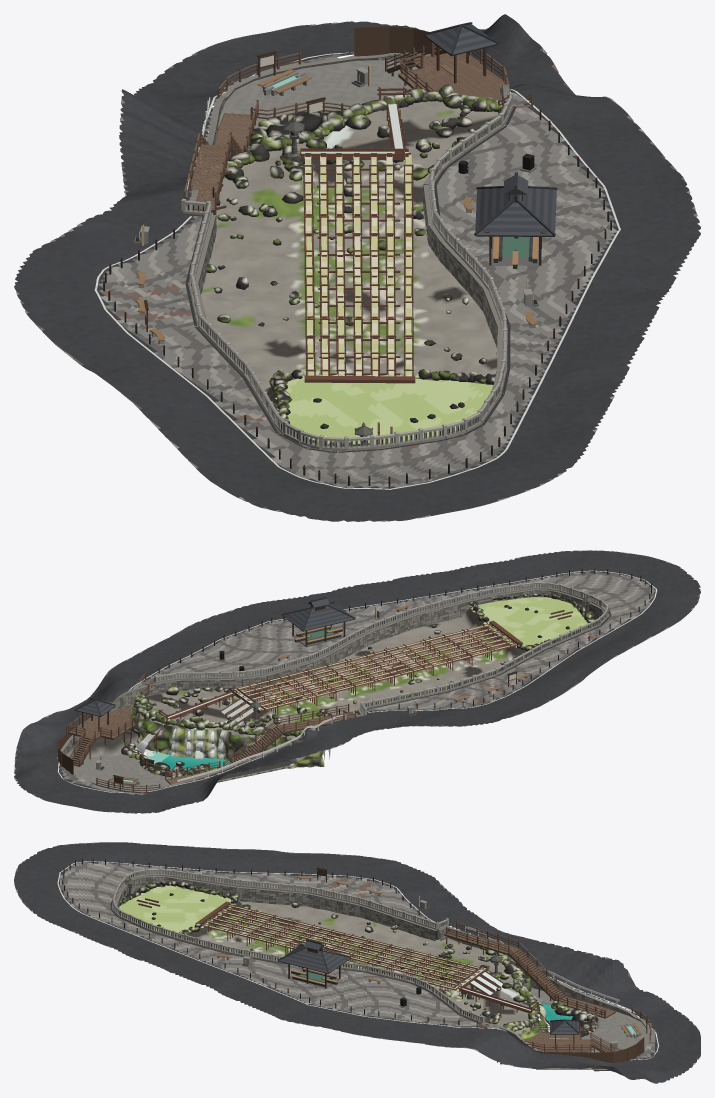
The model's file is yubatake.glb.
3 views of the same model, one above another, from view 1: azimuth 30°, elevation 25°; view 2: azimuth 150°, elevation 25°; view 3: azimuth 270°, elevation 25° (orthographic). The views are drawn at different scales.
Visible parts, largest first — view 1: Yb_Pave, Yb_Bed, Yb_Wood, Yb_Stone, Yb_Rocks, Water_Yb, Yb_Flow, Yb_Roof, Yb_Dark; view 2: Yb_Pave, Yb_Wood, Yb_Bed, Yb_Stone, Yb_Rocks, Water_Yb, Yb_Flow, Yb_Cliff, Yb_Roof, Yb_Dark; view 3: Yb_Pave, Yb_Wood, Yb_Stone, Yb_Bed, Yb_Rocks, Water_Yb, Yb_Flow, Yb_Roof, Yb_Dark, Yb_Cliff.
Boxes of the visible parts, left/top/right/bottom form: Yb_Pave: left=14, top=14, right=700, bottom=521; Yb_Bed: left=197, top=55, right=498, bottom=419; Yb_Wood: left=135, top=26, right=546, bottom=444; Yb_Stone: left=134, top=52, right=541, bottom=450; Yb_Rocks: left=191, top=84, right=502, bottom=446; Water_Yb: left=267, top=75, right=529, bottom=444; Yb_Flow: left=139, top=75, right=533, bottom=376; Yb_Roof: left=424, top=22, right=557, bottom=236; Yb_Dark: left=103, top=73, right=611, bottom=486; Yb_Pave: left=14, top=550, right=700, bottom=813; Yb_Wood: left=57, top=604, right=591, bottom=792; Yb_Bed: left=57, top=597, right=584, bottom=794; Yb_Stone: left=60, top=581, right=608, bottom=793; Yb_Rocks: left=121, top=593, right=595, bottom=777; Water_Yb: left=123, top=597, right=587, bottom=781; Yb_Flow: left=101, top=624, right=513, bottom=767; Yb_Cliff: left=129, top=701, right=324, bottom=768; Yb_Roof: left=75, top=597, right=355, bottom=716; Yb_Dark: left=100, top=568, right=651, bottom=768; Yb_Pave: left=14, top=842, right=700, bottom=1083; Yb_Wood: left=124, top=867, right=651, bottom=1062; Yb_Stone: left=112, top=868, right=649, bottom=1071; Yb_Bed: left=121, top=886, right=655, bottom=1069; Yb_Rocks: left=118, top=881, right=598, bottom=1038; Water_Yb: left=119, top=885, right=636, bottom=1038; Yb_Flow: left=204, top=905, right=559, bottom=1038; Yb_Roof: left=278, top=939, right=579, bottom=1034; Yb_Dark: left=62, top=859, right=497, bottom=1024; Yb_Cliff: left=500, top=957, right=546, bottom=1064.
Size of the model in its own units: 60.88 by 11.68 by 89.49.
